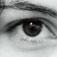eye: (23, 22, 42, 36)
